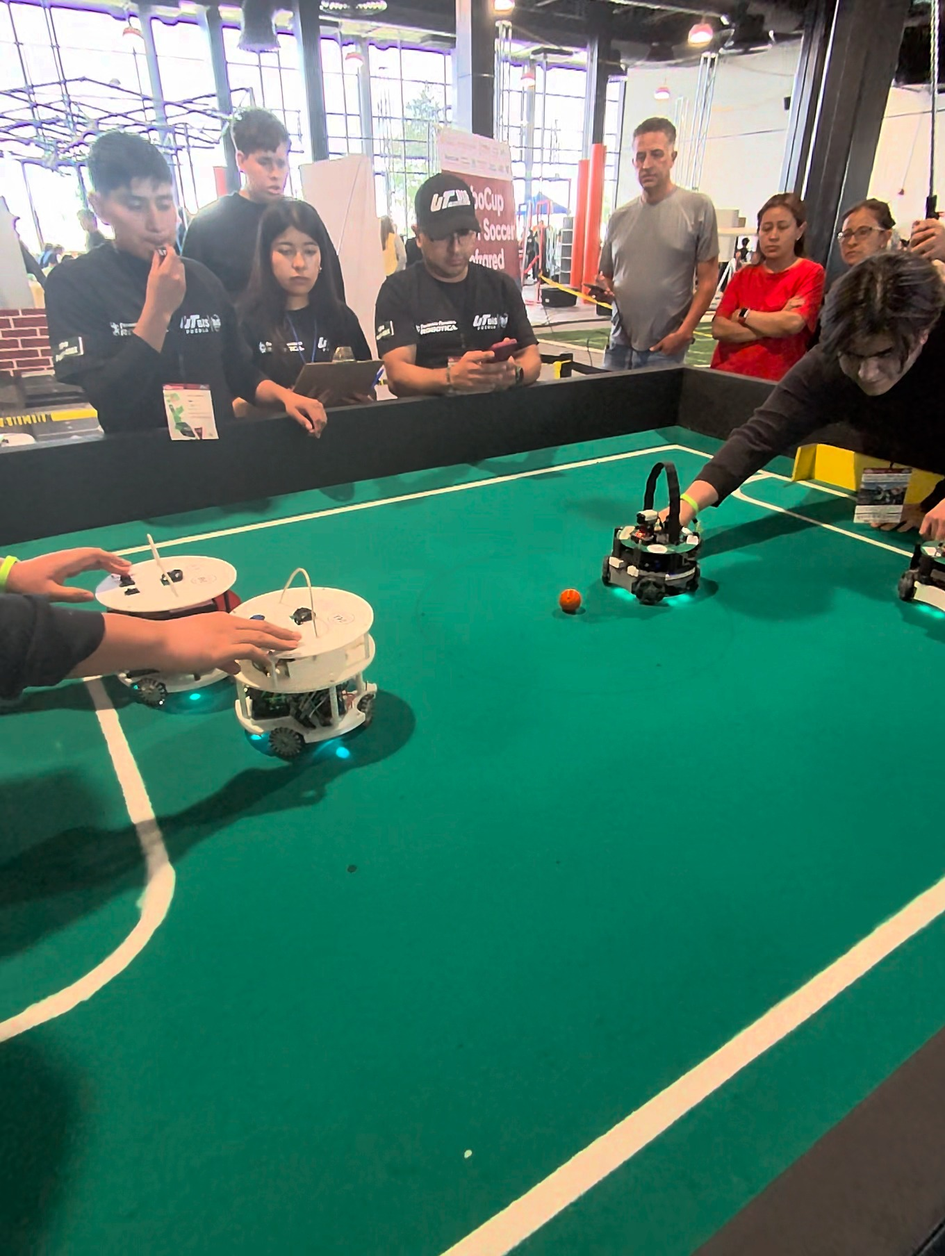Robot: (230, 564, 408, 790), (81, 521, 246, 719), (603, 450, 713, 618), (897, 489, 945, 647)
pelota: (559, 588, 582, 613)
